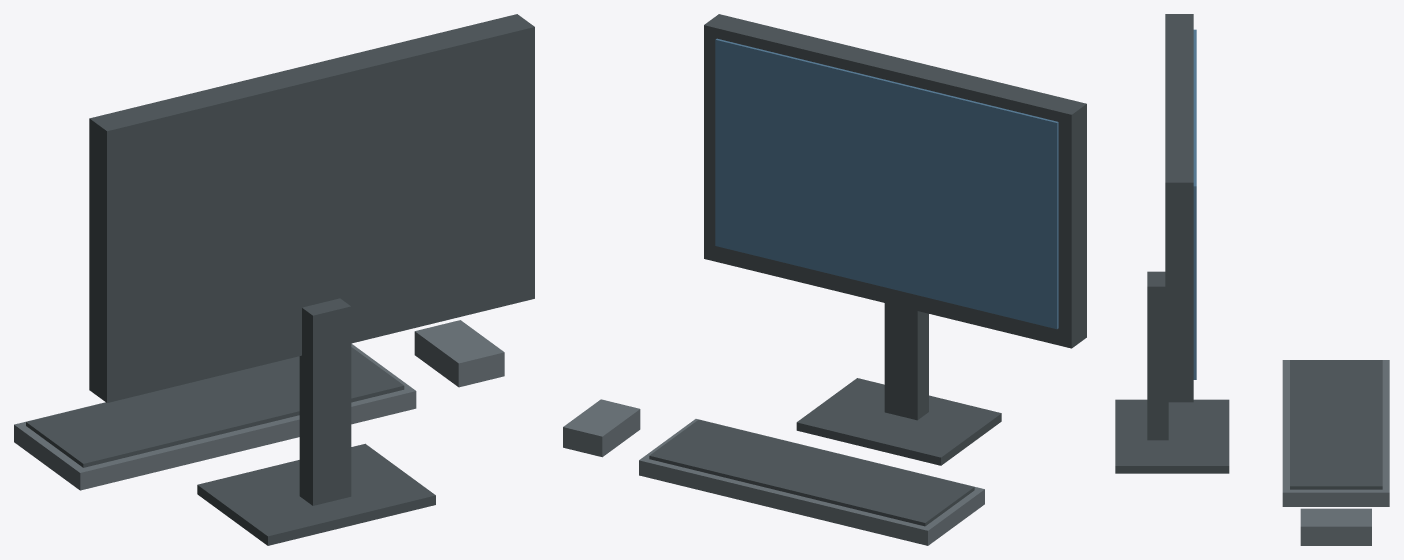
Rendered from monitor.fbx.
The picture shows the model from 3 angles, left to right: view 1: azimuth 30°, elevation 25°; view 2: azimuth 150°, elevation 25°; view 3: azimuth 270°, elevation 25°; orthographic projection. The views are drawn at different scales.
Visible parts, largest first — view 1: monitor; view 2: monitor; view 3: monitor.
Boxes of the visible parts, x1,y1,x2,y2 form: monitor: (14,14,534,545); monitor: (563,14,1086,545); monitor: (1115,14,1389,545).
Bounding box in the file's own units: 63 × 53 × 38.5.
